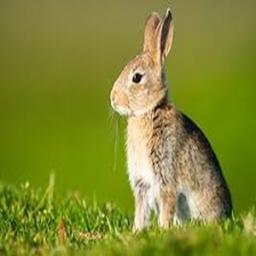rabbit: (110, 9, 231, 230)
